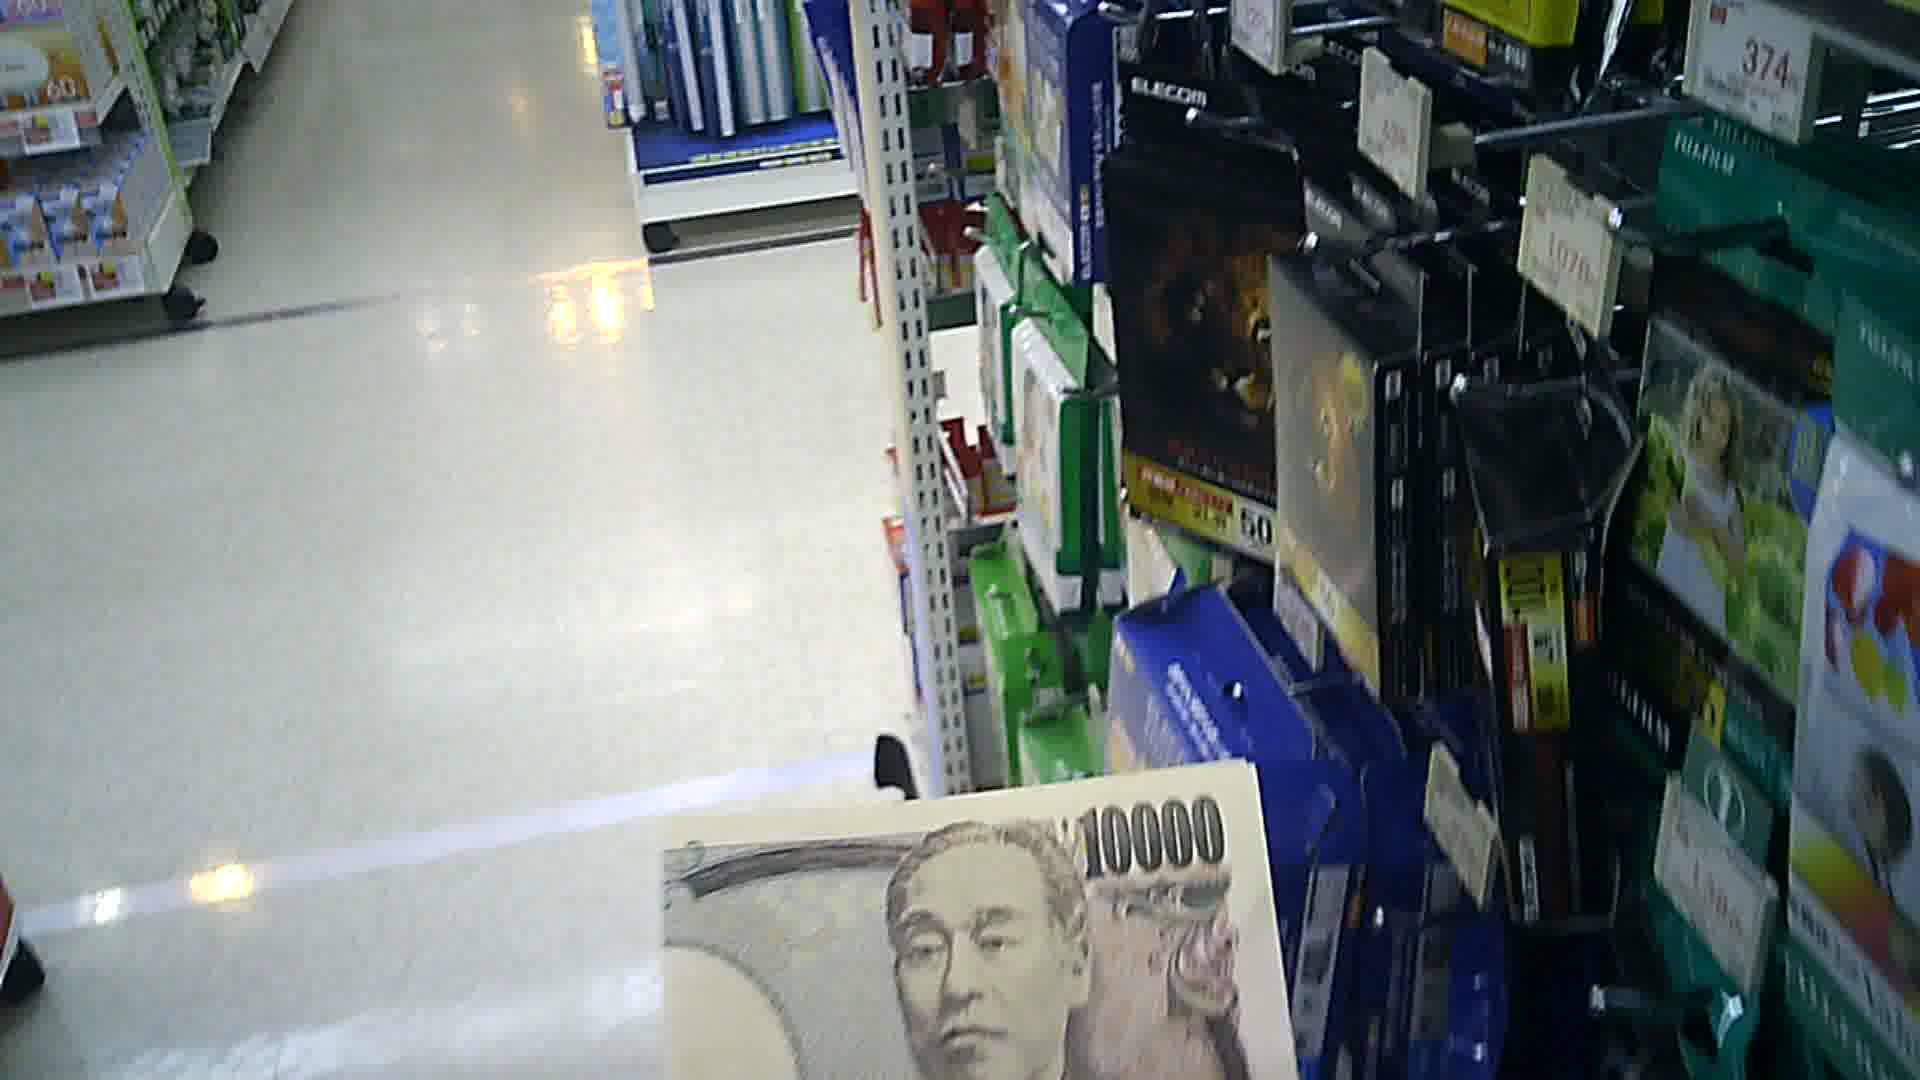10,000 Yen: (659, 774, 1313, 1079)
